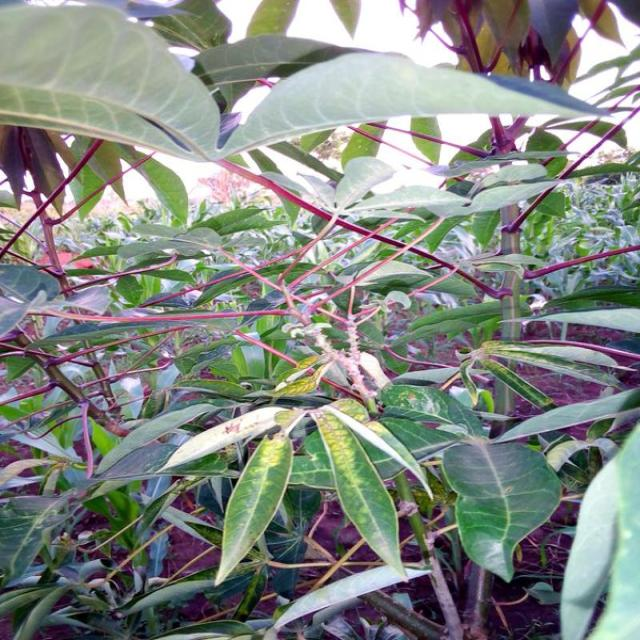cassava leaf: (2, 1, 639, 637), (210, 47, 628, 159), (1, 3, 222, 162), (442, 438, 564, 582), (311, 402, 409, 581), (214, 432, 294, 587)
